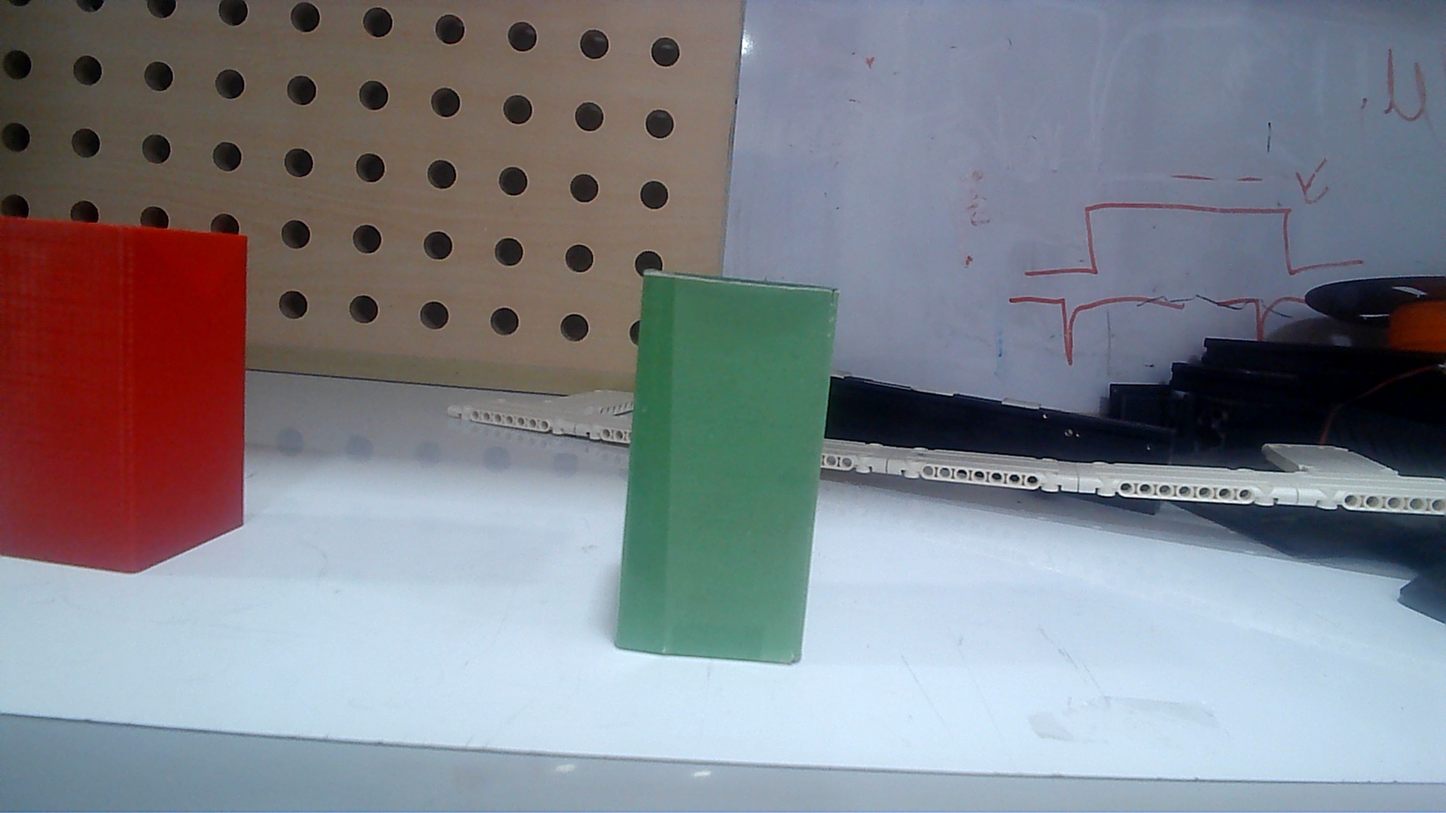green: (606, 280, 838, 666)
